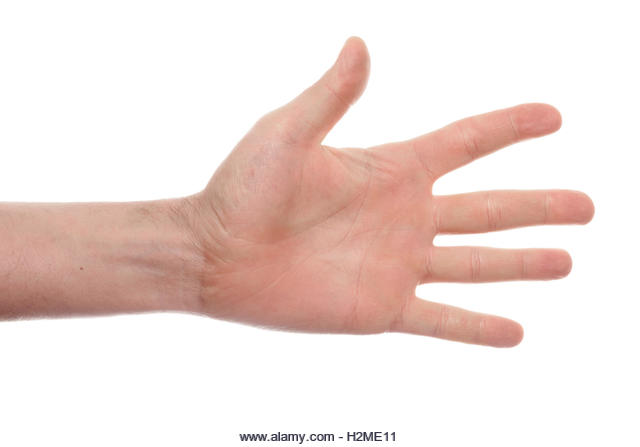hand: (175, 21, 614, 376)
